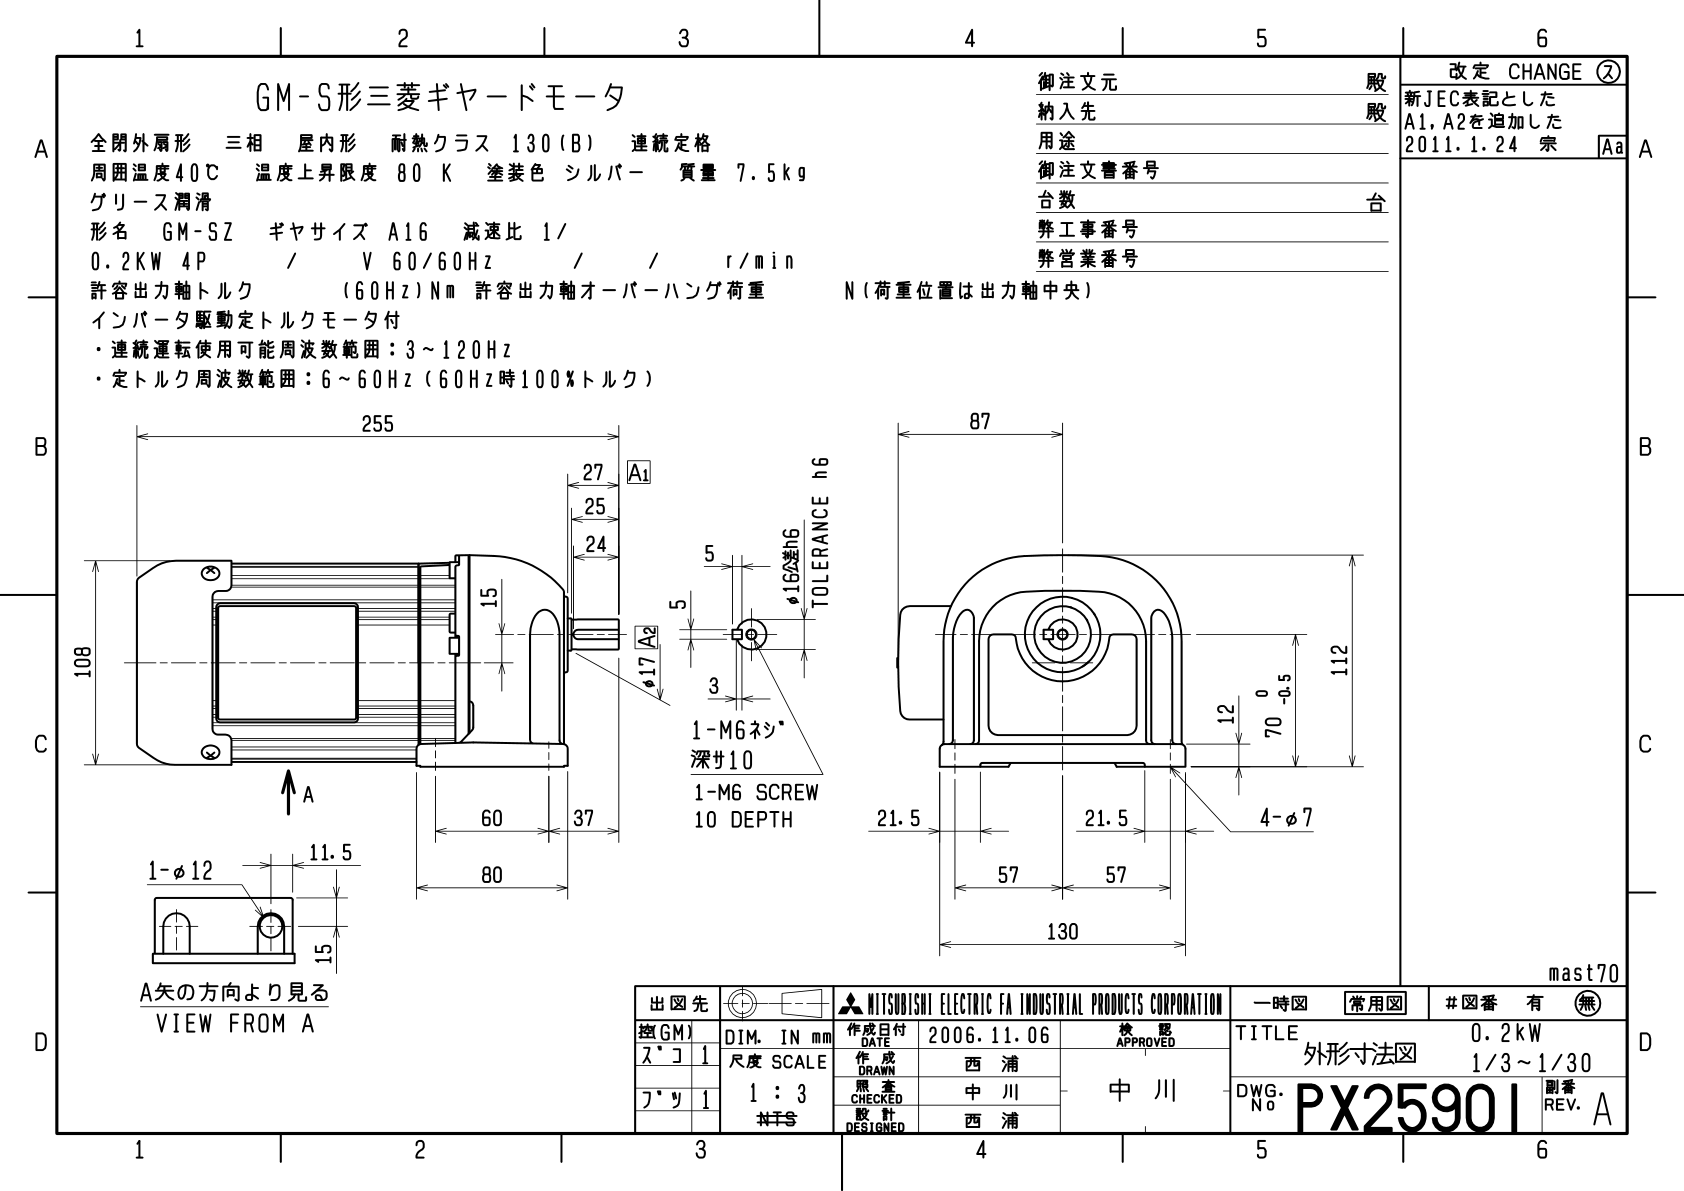GM_S_インバタ屋外＿三相_脚: (67, 409, 1379, 965)
